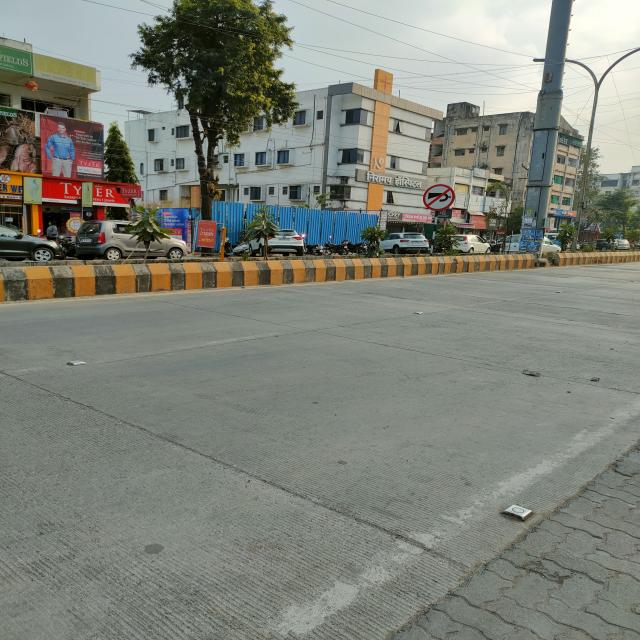HORN_PROHIBITED: (423, 184, 455, 211)
